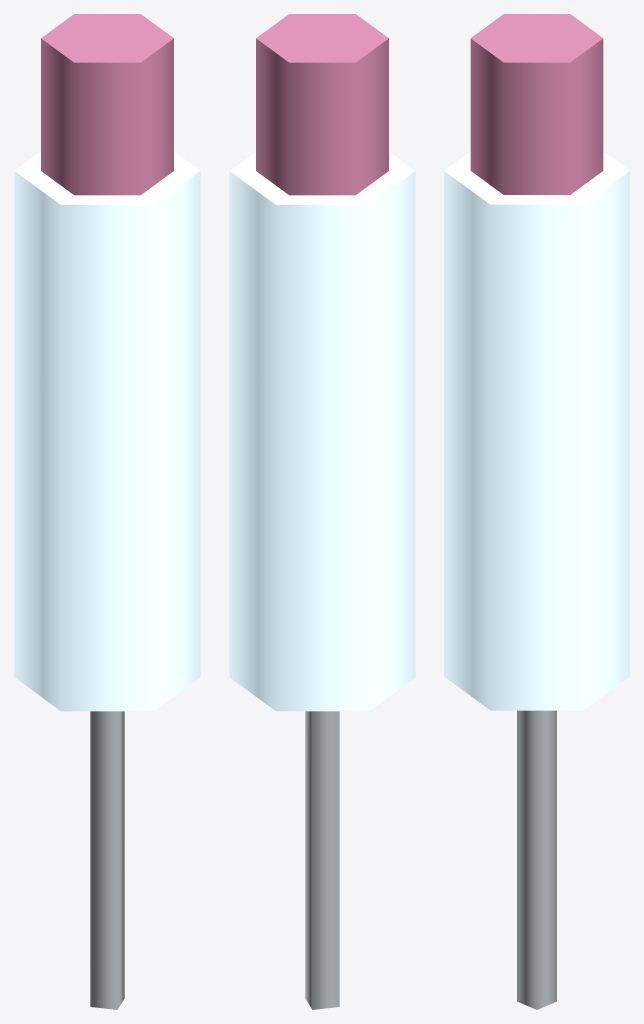
Rendered from syringe.glb.
The picture shows the model from 3 angles, left to right: view 1: azimuth 30°, elevation 25°; view 2: azimuth 150°, elevation 25°; view 3: azimuth 270°, elevation 25°; orthographic projection.
Bounding box in the file's own units: 0.1212 × 0.8 × 0.14.
